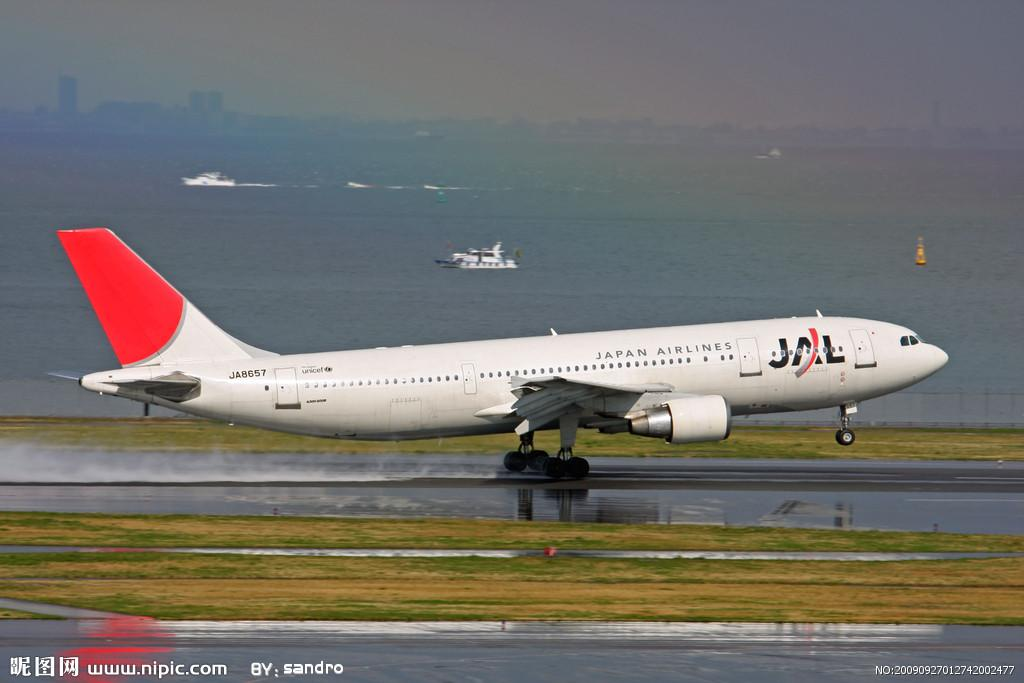airplane: (47, 212, 960, 458)
yacht: (437, 235, 523, 274), (171, 164, 244, 192)
